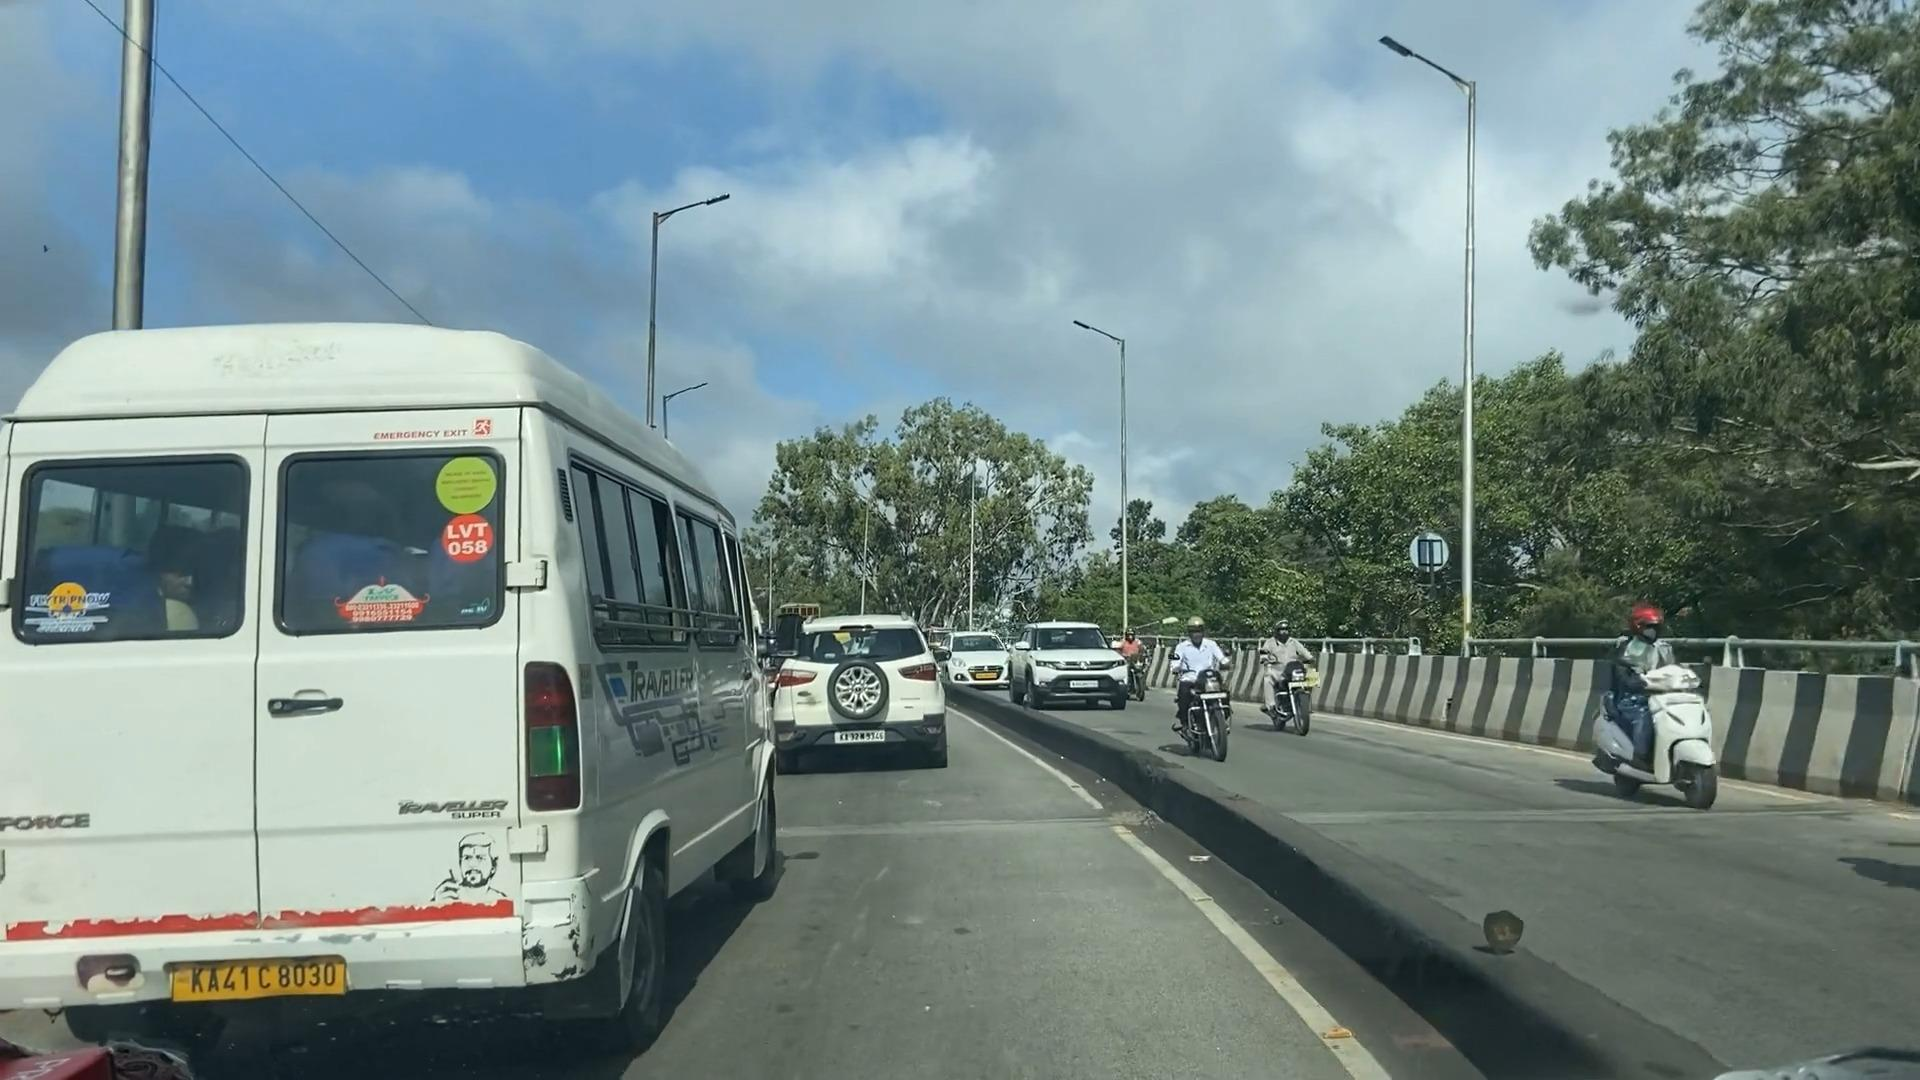HMV: (4, 313, 765, 1038)
LMV: (781, 629, 951, 769)
SpeedBump: (777, 808, 1114, 837)
